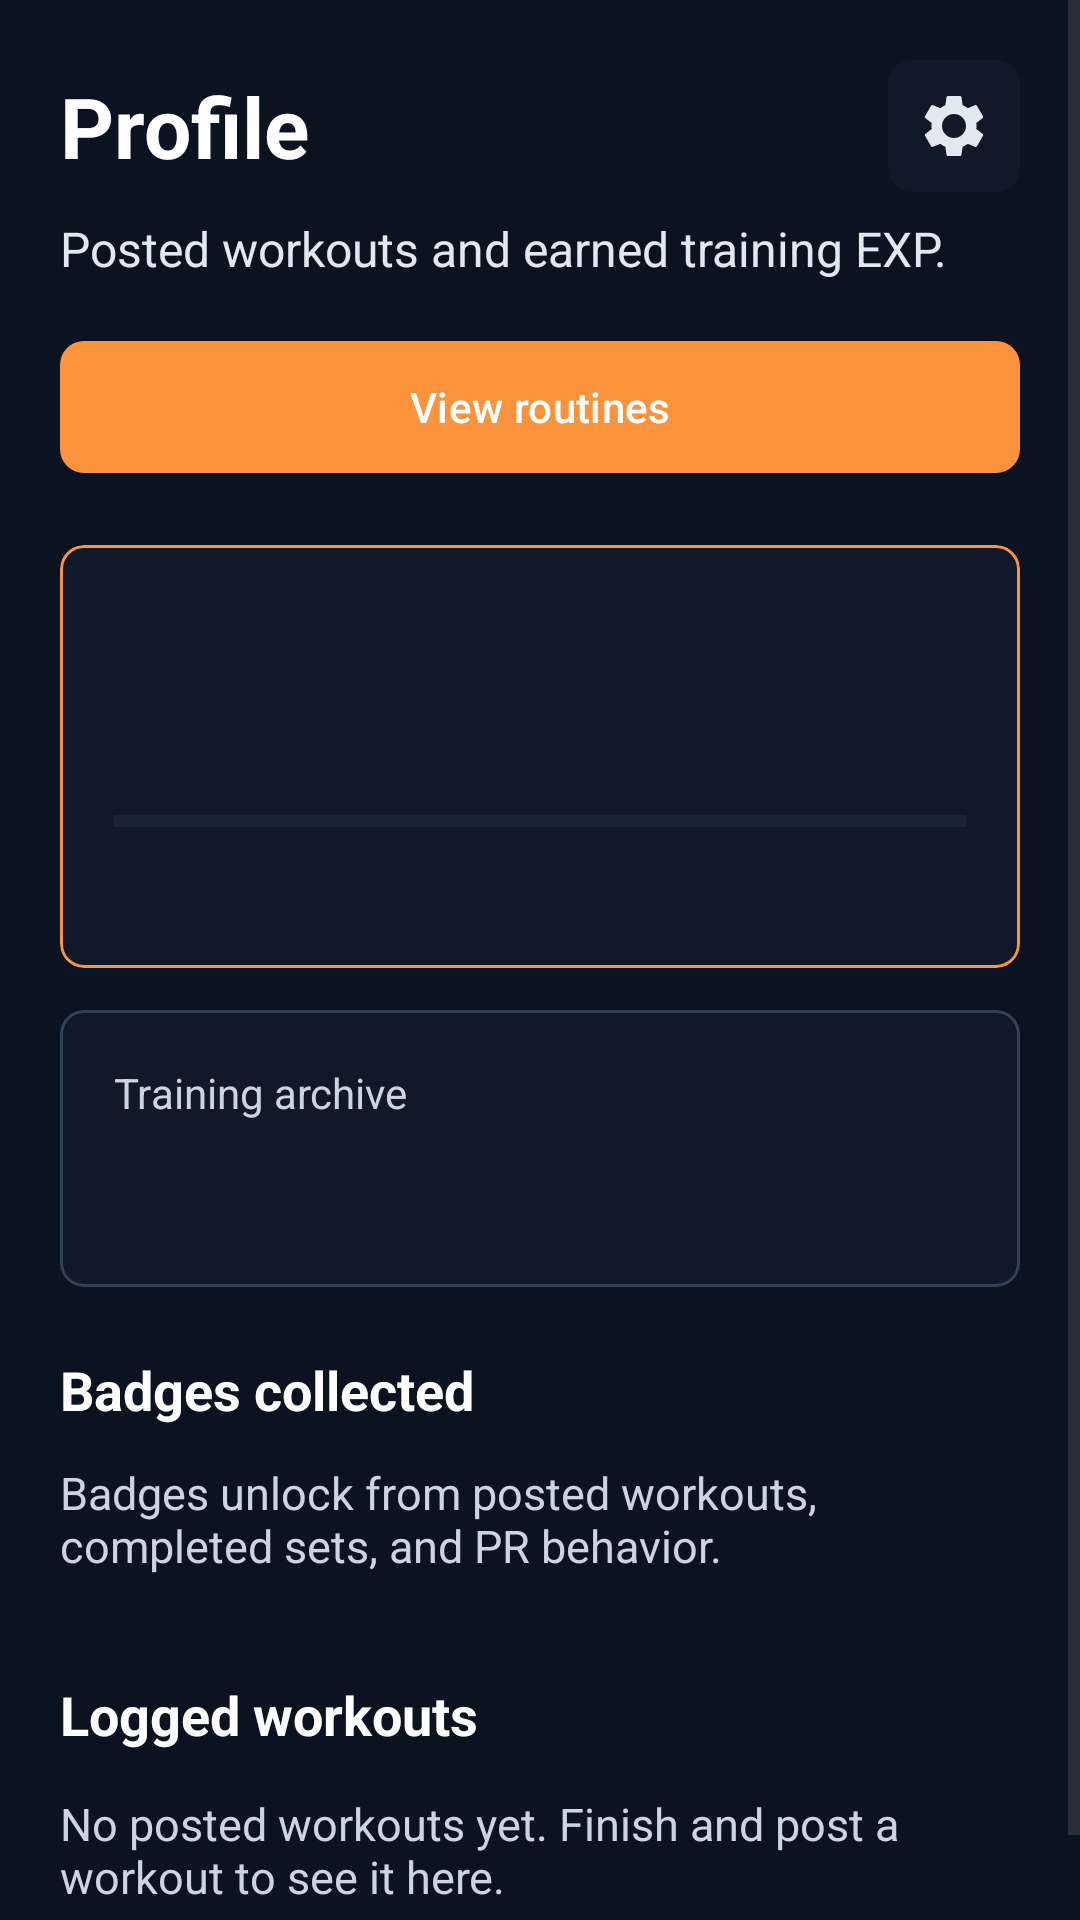

Named icons in this screenshot (1080 x 1920) and their centers, (x=x, y=y):
Open settings: (x=953, y=126)
